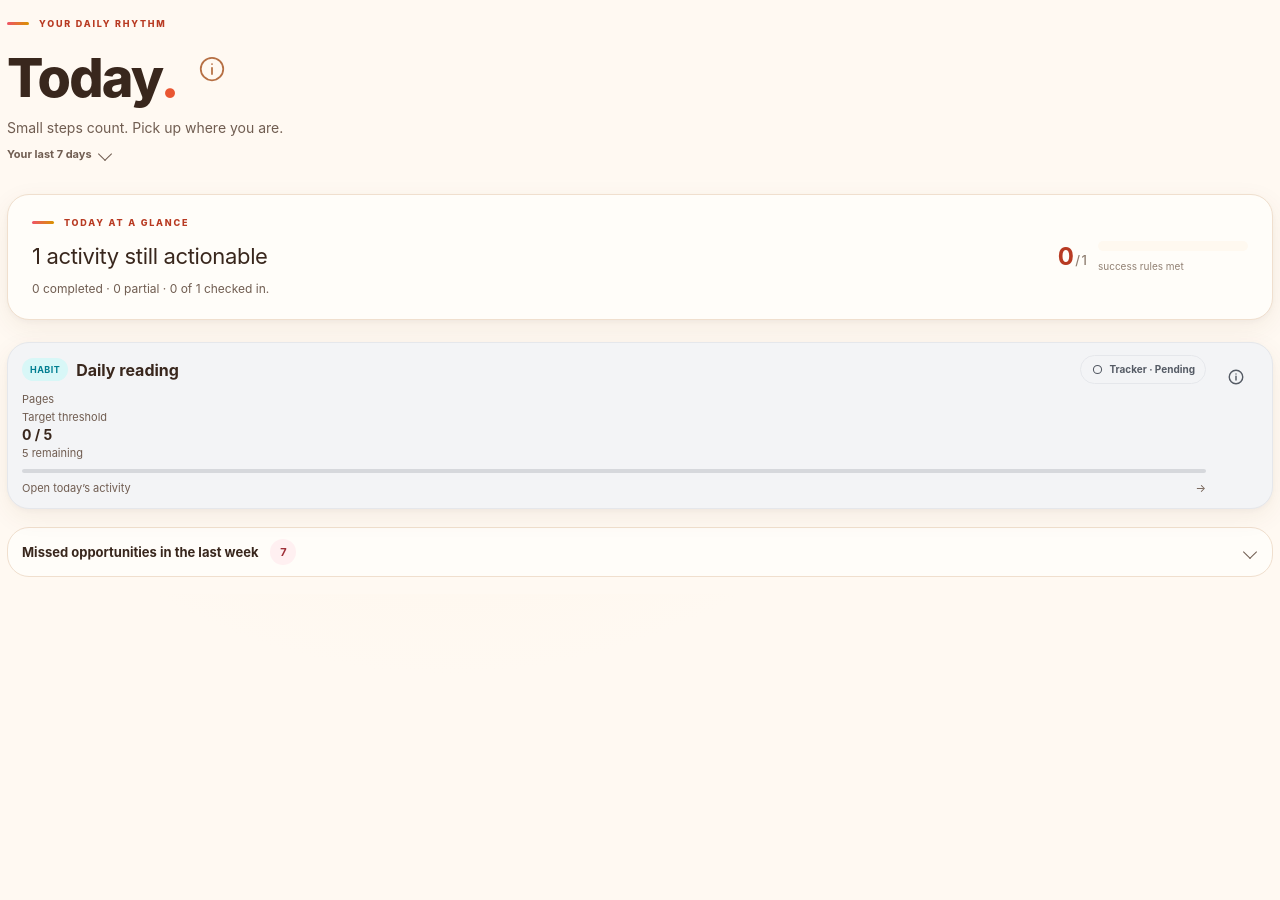
Test: Today check-ins › labels an offline account check-in as device-saved while sync is pending
The width and height of the screenshot is (1280, 900).
Click the button with aria-label "Open Daily reading, Pending".
click(614, 426)  # box left=22, top=355, right=1206, bottom=496
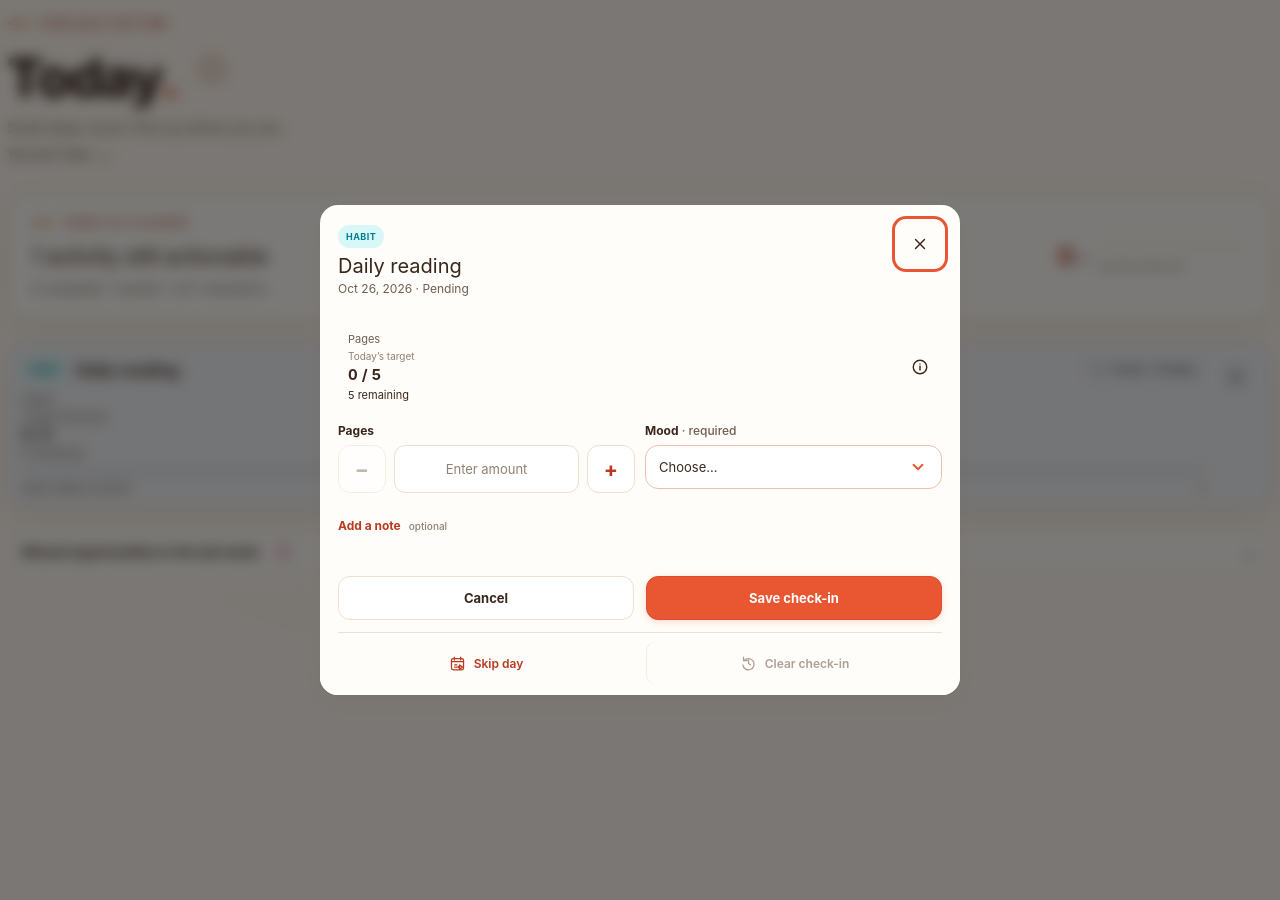
Type "1" into the number field labelled "Pages".
click(486, 470); type("1")  # box left=394, top=446, right=579, bottom=494
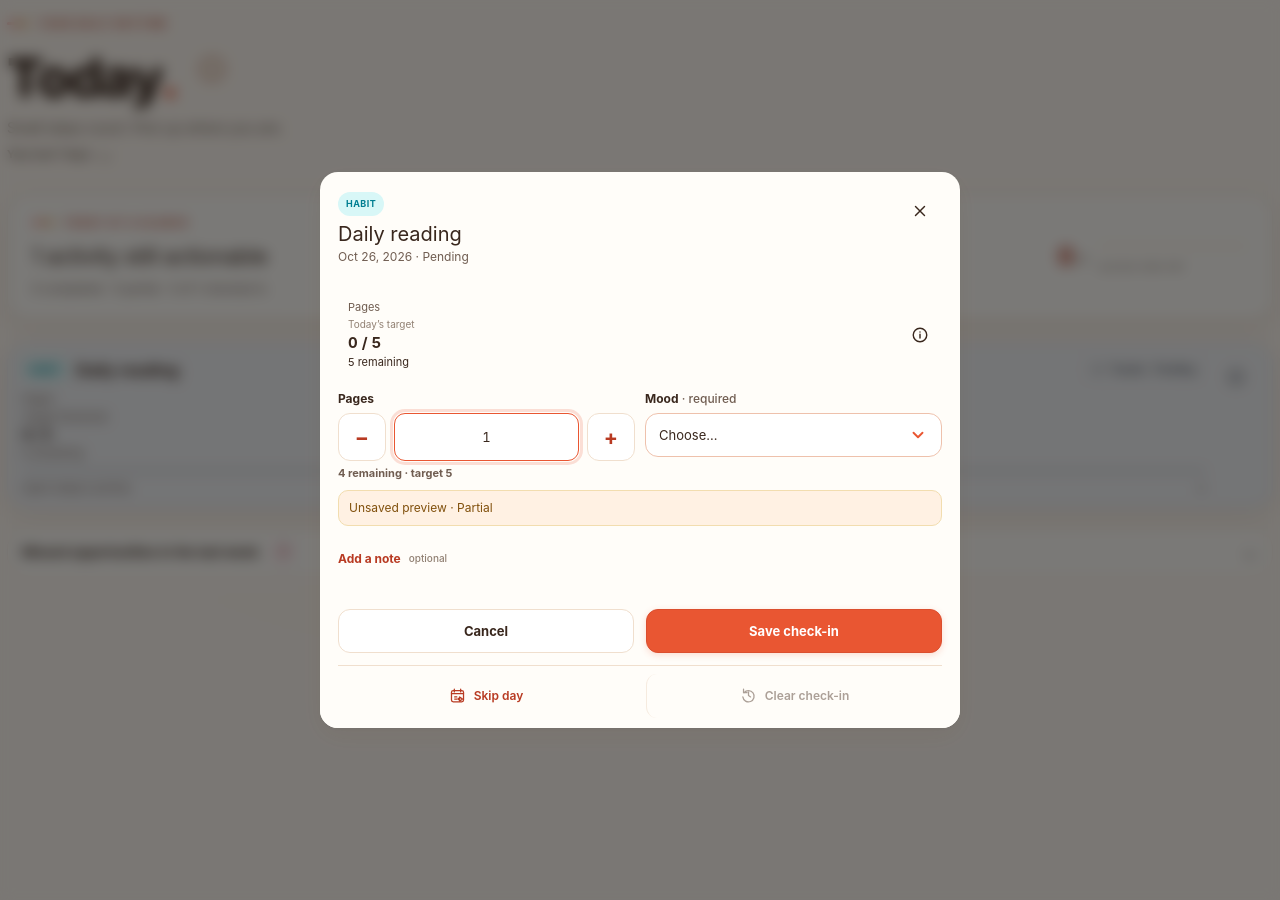
Select "Focused" in the dropdown labelled "Mood · required" at (794, 435), box left=645, top=413, right=942, bottom=457
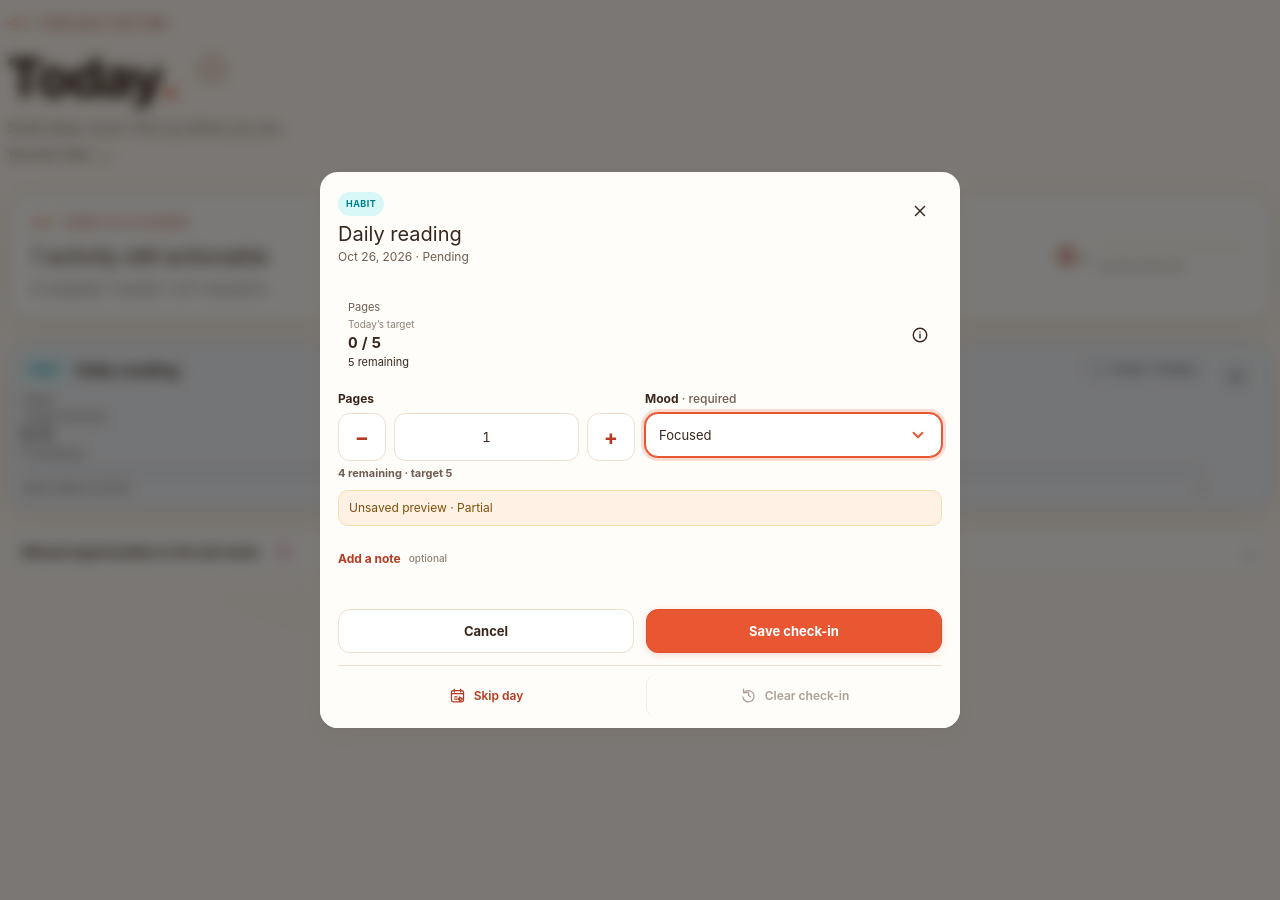
Click the button "Save check-in".
click(794, 631)  # box left=646, top=609, right=942, bottom=653
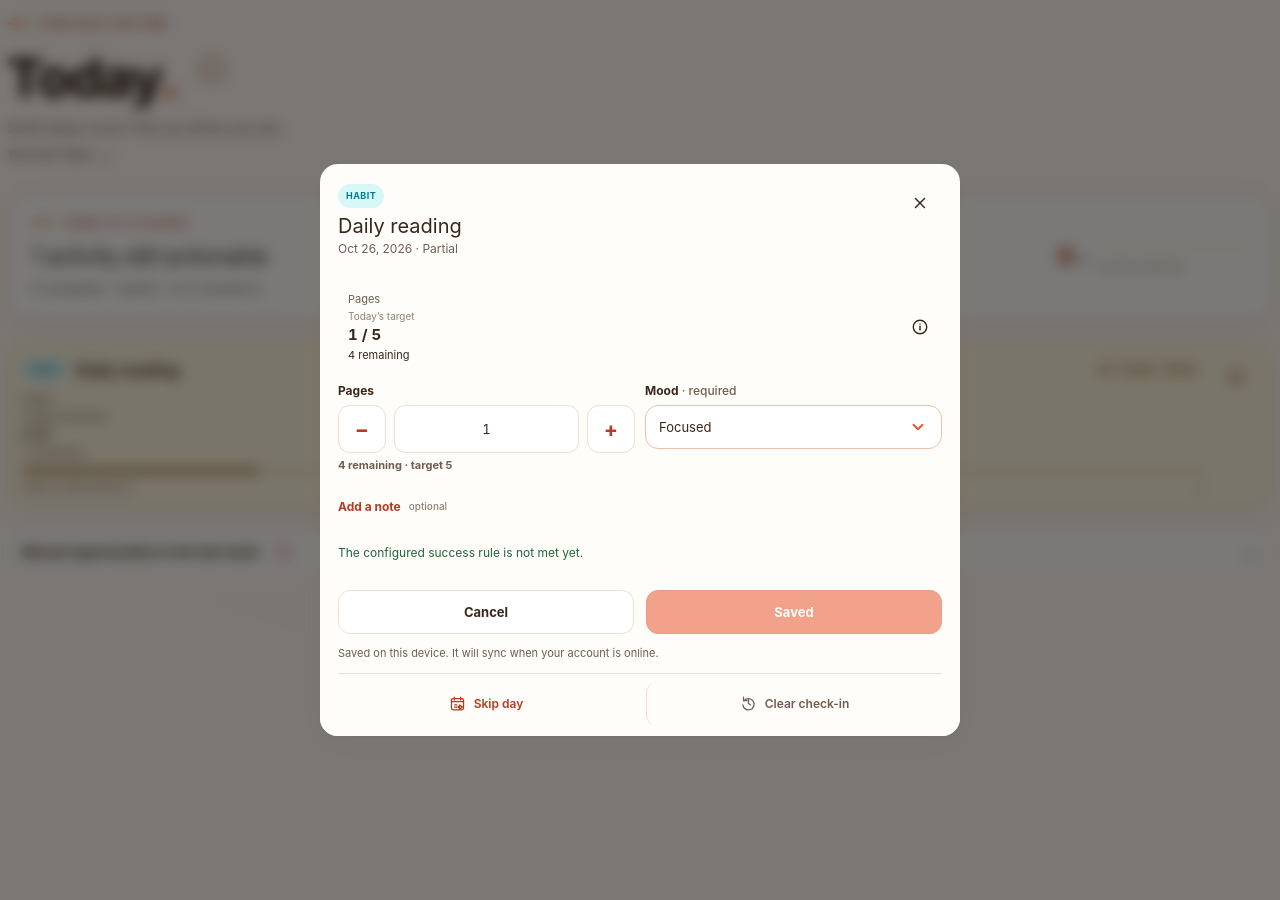
expect the text "Saved on this device. It will sync when your account is online." is shown: met, box left=338, top=646, right=659, bottom=660
expect the button "Saved" is disabled: met, box left=646, top=590, right=942, bottom=634
expect the text "Unsaved preview" is gone: met
